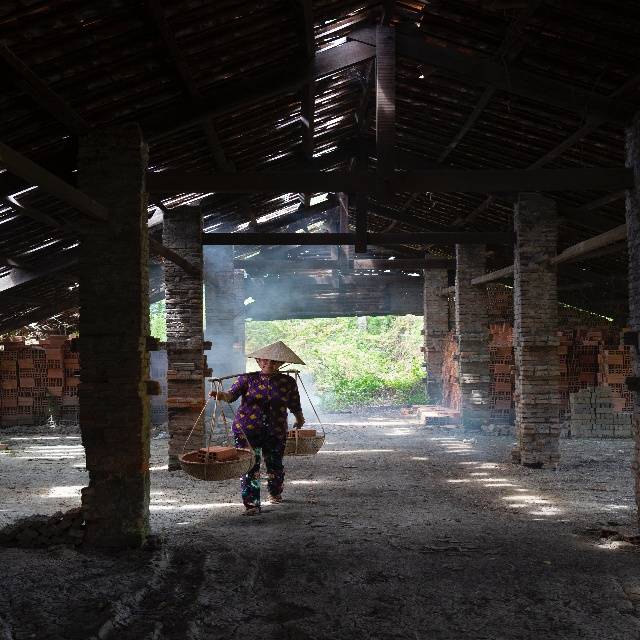Sin_guantes: (208, 390, 224, 401), (292, 418, 305, 429)
